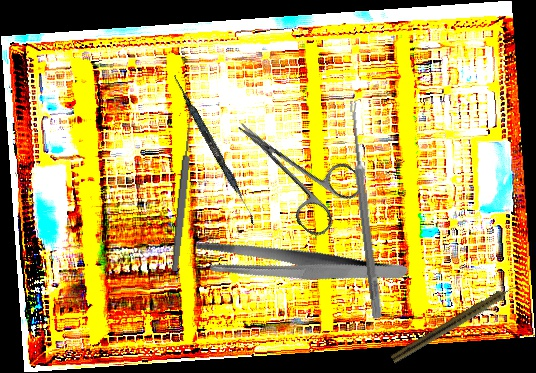Dressing Forceps: (189, 195, 410, 335)
Handpiece: (390, 280, 521, 367)
Iris Scissors: (216, 94, 369, 241)
Spatula Surgical: (168, 74, 261, 225)
Surgical Spoon: (346, 100, 384, 319), (169, 106, 198, 272)
